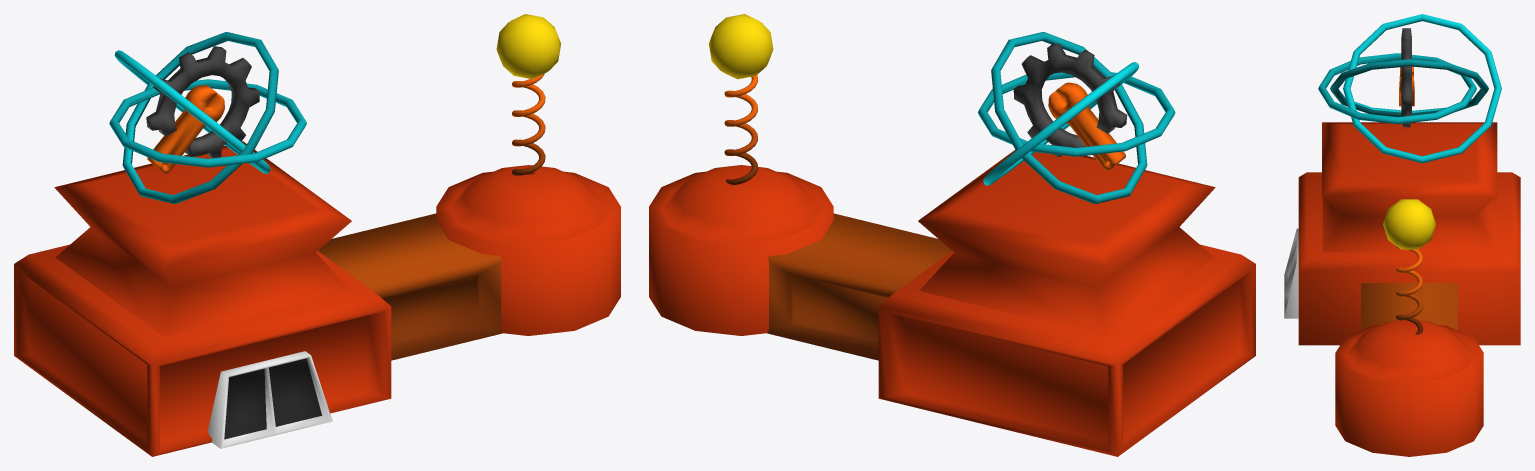
3 views of the same model, side by side, from view 1: azimuth 30°, elevation 25°; view 2: azimuth 150°, elevation 25°; view 3: azimuth 270°, elevation 25° (orthographic). The views are drawn at different scales.
Parts seen in each view (by area): view 1: NurbsPath.002; view 2: NurbsPath.002; view 3: NurbsPath.002.
Boxes of the visible parts, x1,y1,x2,y2 form: NurbsPath.002: (14,14,620,456); NurbsPath.002: (649,14,1255,456); NurbsPath.002: (1284,14,1520,456).
Bounding box in the file's own units: 1310 × 781 × 634.
1 material, 1 textured.
